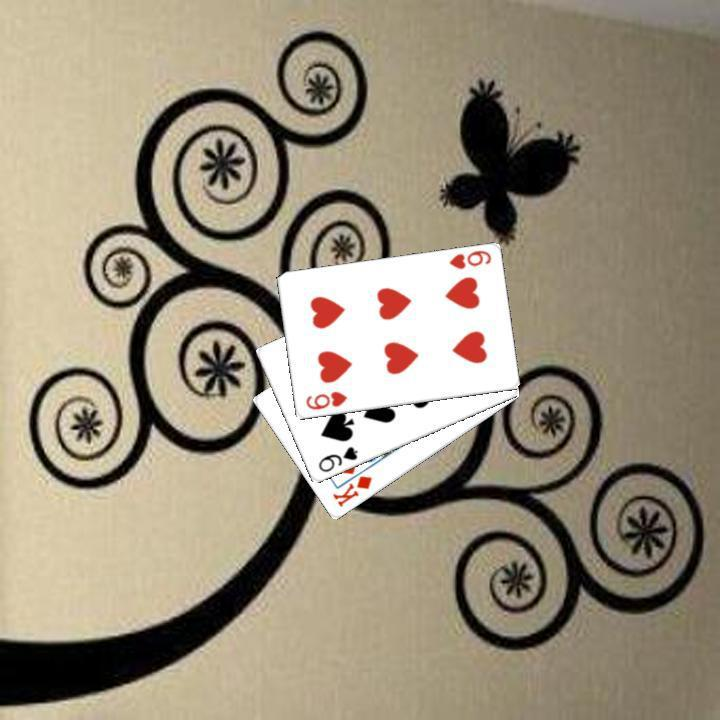6: (301, 387, 349, 412), (445, 246, 493, 271)
9: (314, 442, 360, 475)
K: (328, 472, 374, 509)
